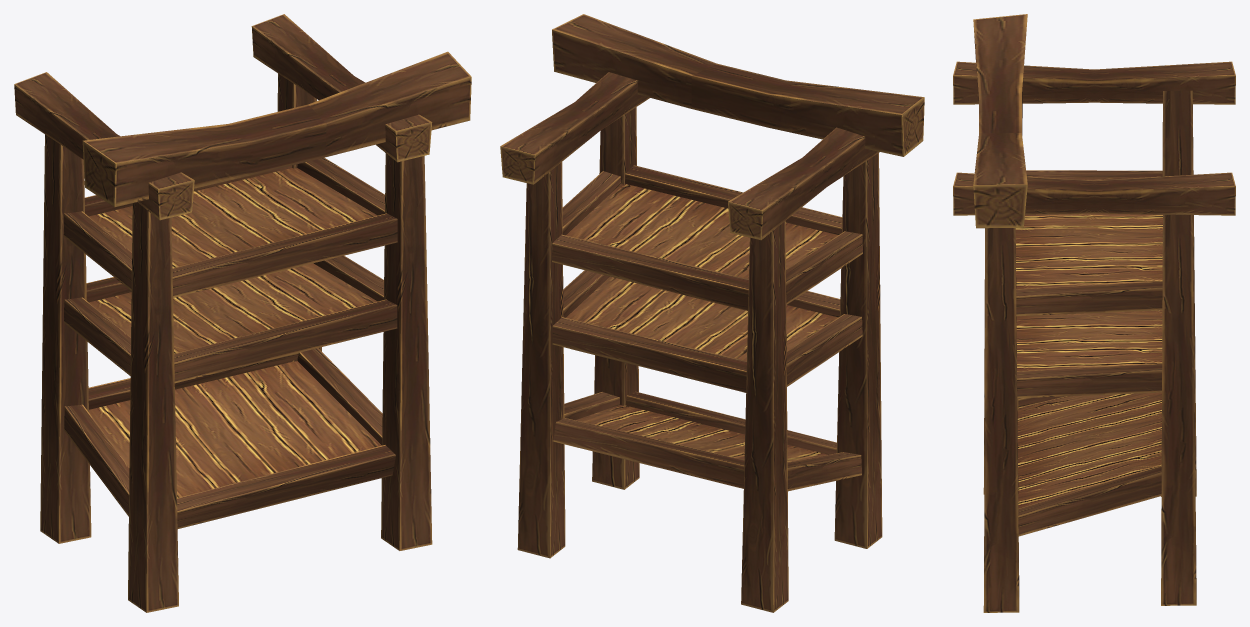
The model's file is wooden_shelf.fbx.
3 renders of one model, left to right at view 1: azimuth 30°, elevation 25°; view 2: azimuth 150°, elevation 25°; view 3: azimuth 270°, elevation 25°, orthographic. The views are drawn at different scales.
Parts seen in each view (by area): view 1: wooden_shelf; view 2: wooden_shelf; view 3: wooden_shelf.
Part boxes in pixels (box(x1,y1,x2,y2)): wooden_shelf: box(14, 14, 471, 612); wooden_shelf: box(500, 14, 924, 612); wooden_shelf: box(953, 14, 1235, 612).
Size of the model in its own units: 1916 by 1342 by 2338.
Materials: 1 (1 with a texture image).
